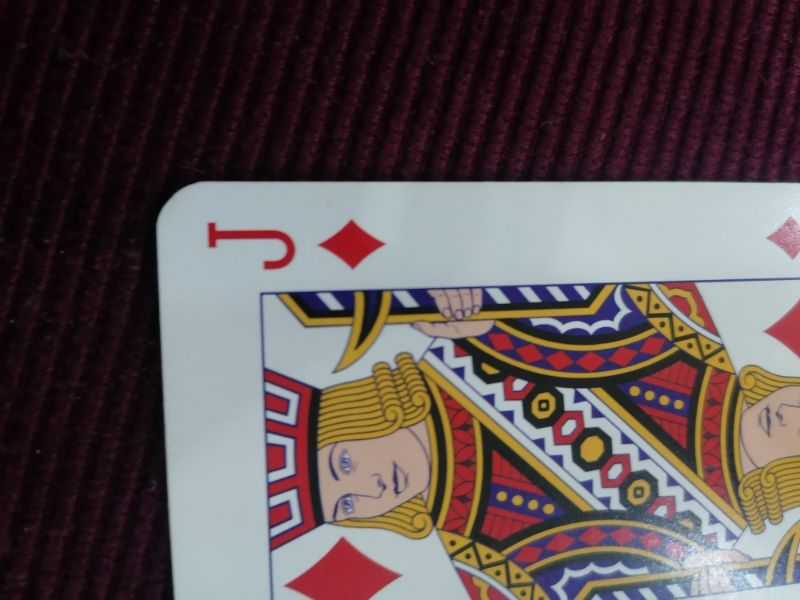Jd: (198, 209, 392, 275)
